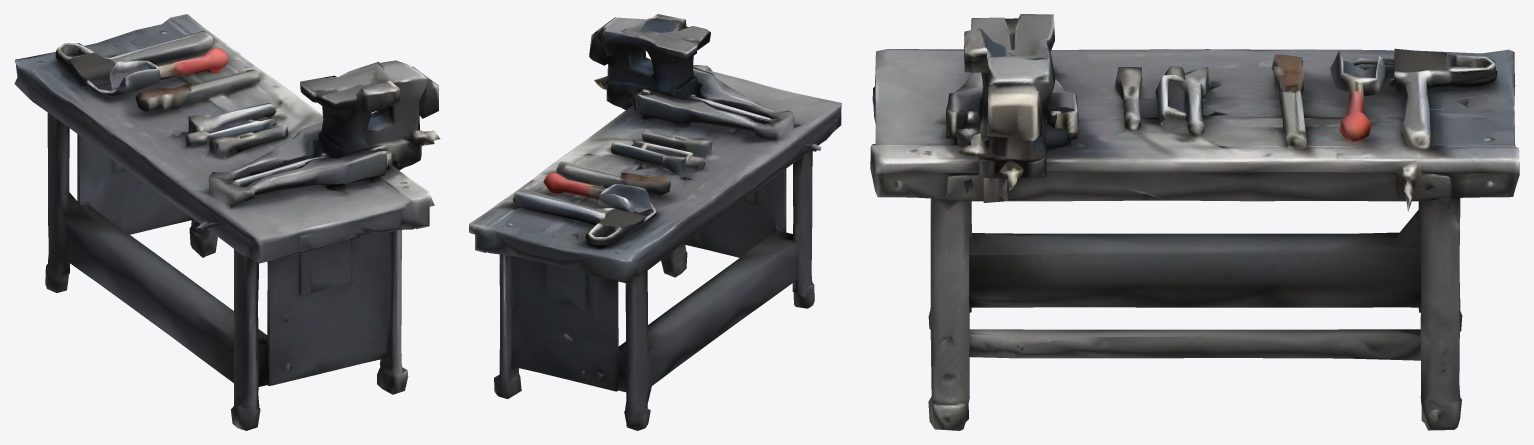
The model's file is gr_workbench.glb.
The picture shows the model from 3 angles, left to right: view 1: azimuth 30°, elevation 25°; view 2: azimuth 150°, elevation 25°; view 3: azimuth 270°, elevation 25°; orthographic projection. The views are drawn at different scales.
Visible parts, largest first — view 1: tripo_node_700297b4-b7e8-4c89-acc5-514617b0d587; view 2: tripo_node_700297b4-b7e8-4c89-acc5-514617b0d587; view 3: tripo_node_700297b4-b7e8-4c89-acc5-514617b0d587.
Part boxes in pixels (left/top/right/bottom): tripo_node_700297b4-b7e8-4c89-acc5-514617b0d587: left=14, top=14, right=440, bottom=430; tripo_node_700297b4-b7e8-4c89-acc5-514617b0d587: left=469, top=14, right=841, bottom=430; tripo_node_700297b4-b7e8-4c89-acc5-514617b0d587: left=870, top=14, right=1519, bottom=430.
Bounding box in the file's own units: 0.5695 × 0.6585 × 1.
Materials: 1 (1 with a texture image).
